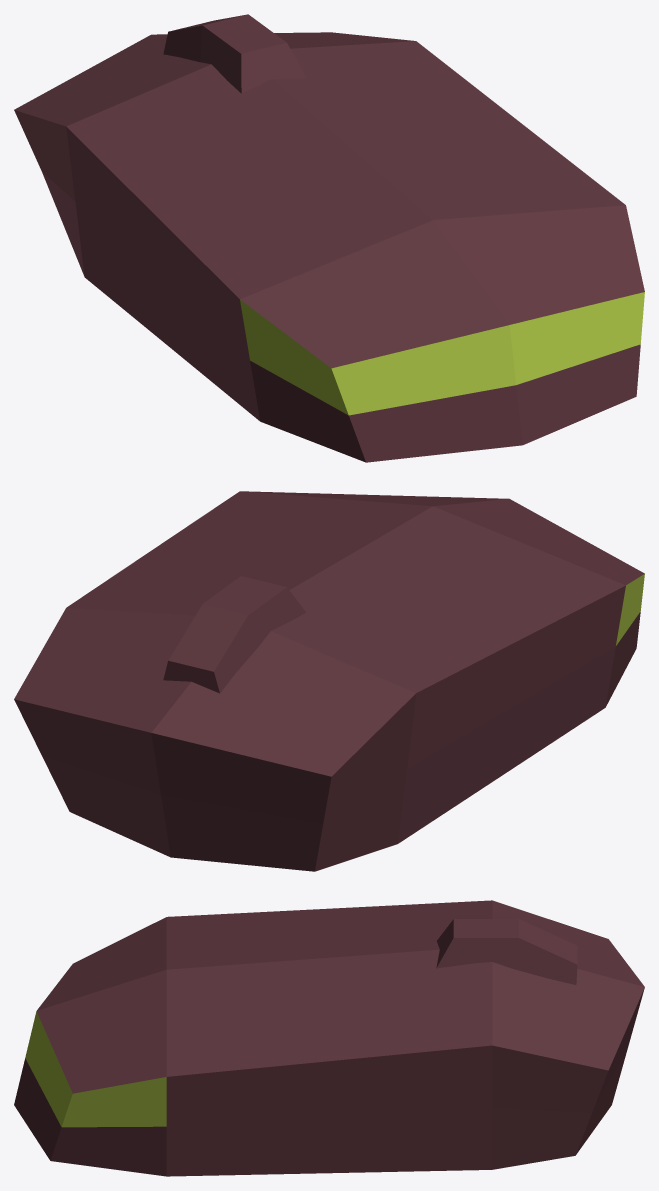
Rendered from pc-mouse-gaming.fbx.
3 renders of one model, top to bottom at view 1: azimuth 30°, elevation 25°; view 2: azimuth 150°, elevation 25°; view 3: azimuth 270°, elevation 25°, orthographic. The views are drawn at different scales.
Parts seen in each view (by area): view 1: pc-mouse-gaming; view 2: pc-mouse-gaming; view 3: pc-mouse-gaming.
Part boxes in pixels (bbox=[...]): pc-mouse-gaming: bbox=[14, 14, 644, 462]; pc-mouse-gaming: bbox=[14, 491, 644, 871]; pc-mouse-gaming: bbox=[14, 900, 644, 1176].
Bounding box in the file's own units: 0.066 × 0.0339 × 0.11.
